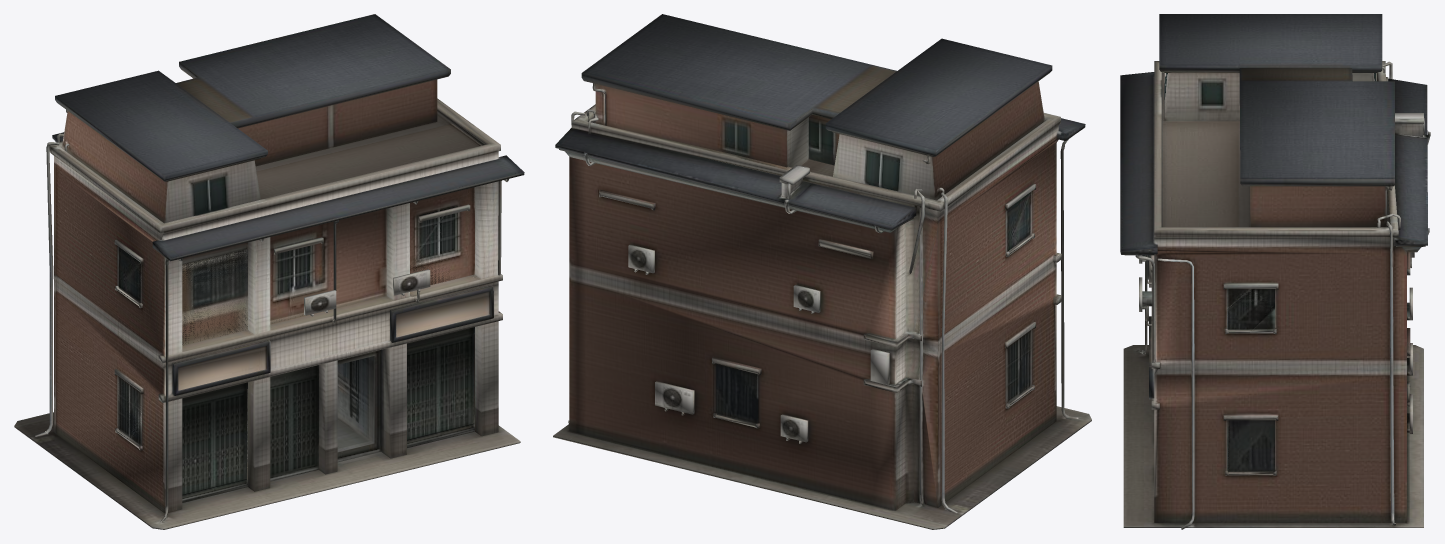
Rendered from facade-architectural.glb.
3 renders of one model, left to right at view 1: azimuth 30°, elevation 25°; view 2: azimuth 150°, elevation 25°; view 3: azimuth 270°, elevation 25°, orthographic. The views are drawn at different scales.
Visible parts, largest first — view 1: tripo_node_aaea552d-8800-46a3-a5fa-894715adf4e7; view 2: tripo_node_aaea552d-8800-46a3-a5fa-894715adf4e7; view 3: tripo_node_aaea552d-8800-46a3-a5fa-894715adf4e7.
Part boxes in pixels (left/top/right/bottom): tripo_node_aaea552d-8800-46a3-a5fa-894715adf4e7: left=14, top=14, right=524, bottom=529; tripo_node_aaea552d-8800-46a3-a5fa-894715adf4e7: left=553, top=14, right=1091, bottom=529; tripo_node_aaea552d-8800-46a3-a5fa-894715adf4e7: left=1120, top=14, right=1430, bottom=529.
Size of the model in its own units: 0.998 by 0.8809 by 0.7168.
1 material, 1 textured.
